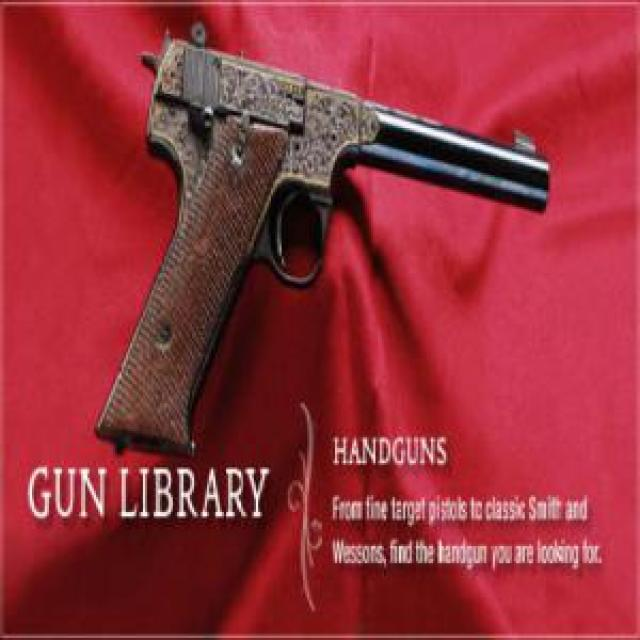pistol: (83, 21, 550, 454)
